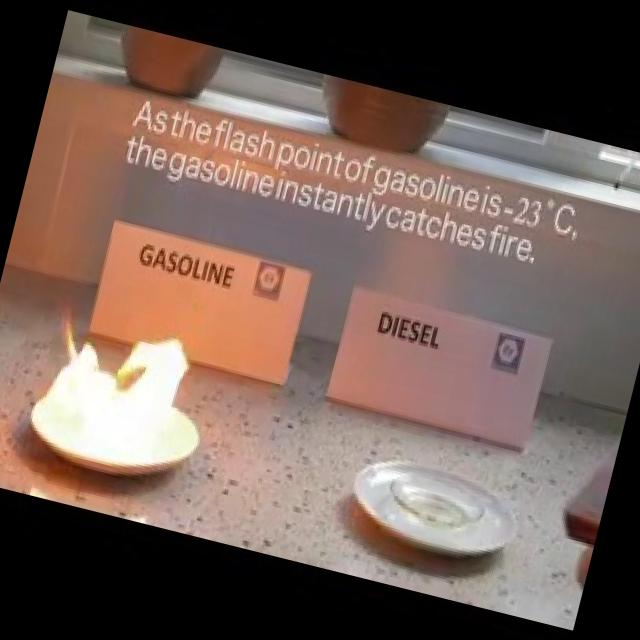Fire: (22, 294, 208, 478)
